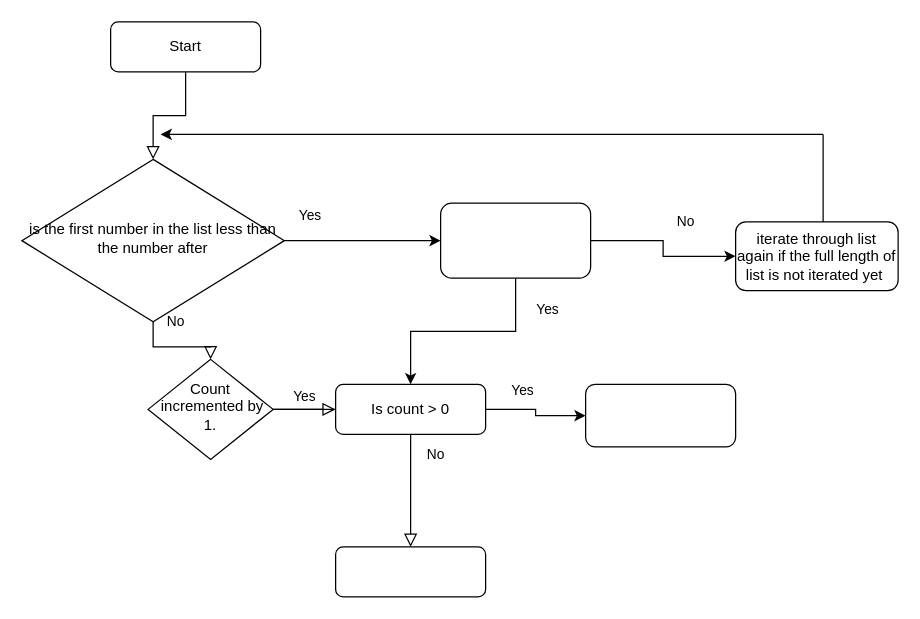
The diagram is 920 pixels wide and 619 high, and some of its shapes have lost their labels. Each missing label, with the centre of its shape:
Is the number list fully iterated: (x=515, y=240)
Return False: (x=410, y=571)
Return True: (x=660, y=415)
